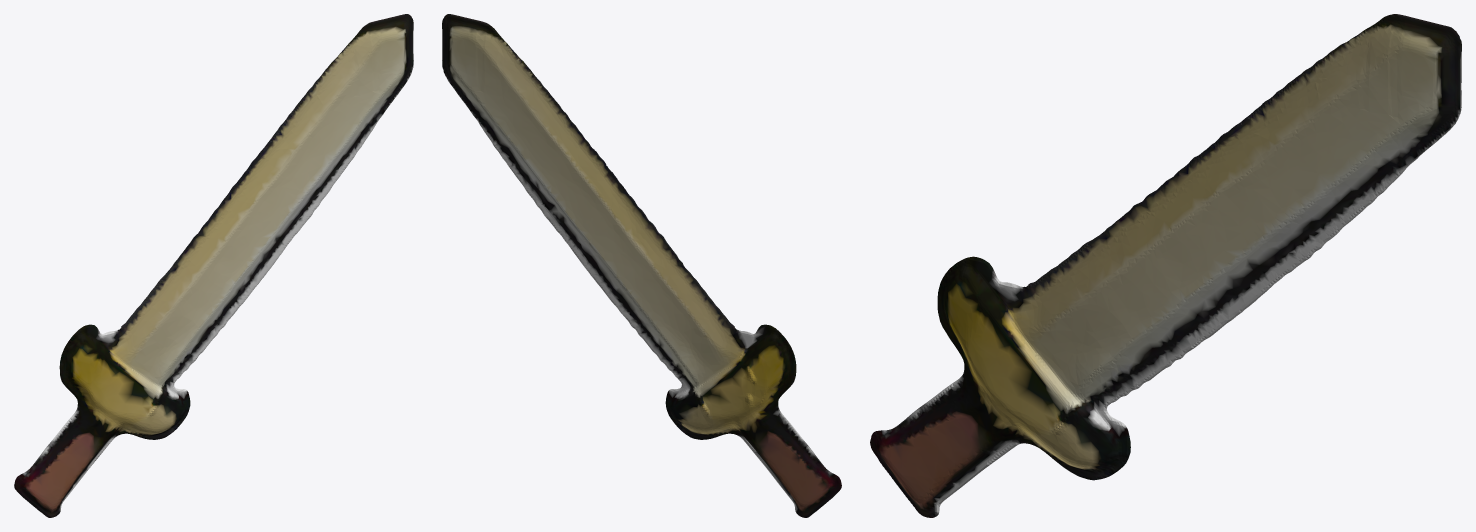
Rendered from b_bsword_1.glb.
The picture shows the model from 3 angles, left to right: view 1: azimuth 30°, elevation 25°; view 2: azimuth 150°, elevation 25°; view 3: azimuth 330°, elevation 25°; orthographic projection. The views are drawn at different scales.
Visible parts, largest first — view 1: geometry_0; view 2: geometry_0; view 3: geometry_0.
Part boxes in pixels (bbox=[...]): geometry_0: bbox=[14, 14, 413, 517]; geometry_0: bbox=[442, 14, 841, 517]; geometry_0: bbox=[870, 14, 1461, 517].
Size of the model in its own units: 0.9375 by 0.9364 by 0.0514.
